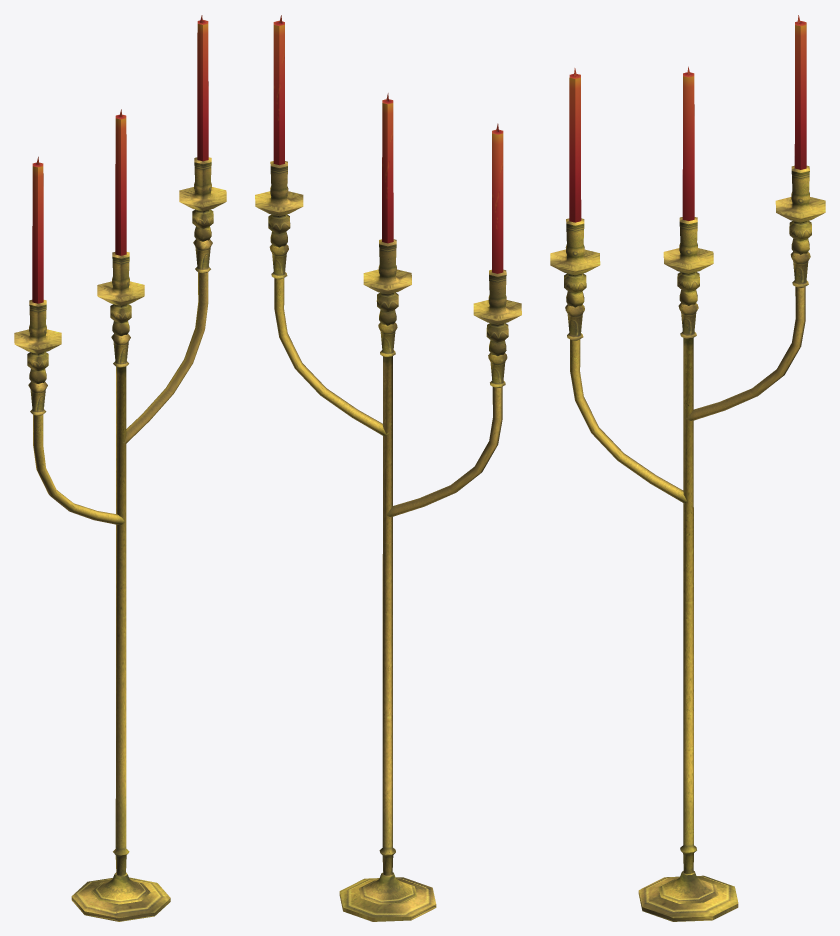
The model's file is Chandeleer.fbx.
3 renders of one model, left to right at view 1: azimuth 30°, elevation 25°; view 2: azimuth 150°, elevation 25°; view 3: azimuth 330°, elevation 25°, orthographic. The views are drawn at different scales.
Visible parts, largest first — view 1: chandelier4; view 2: chandelier4; view 3: chandelier4.
Part boxes in pixels (box(x1,y1,x2,y2)): chandelier4: box(14, 15, 226, 921); chandelier4: box(255, 15, 521, 921); chandelier4: box(550, 15, 825, 921).
Size of the model in its own units: 56.33 by 195 by 19.94.
